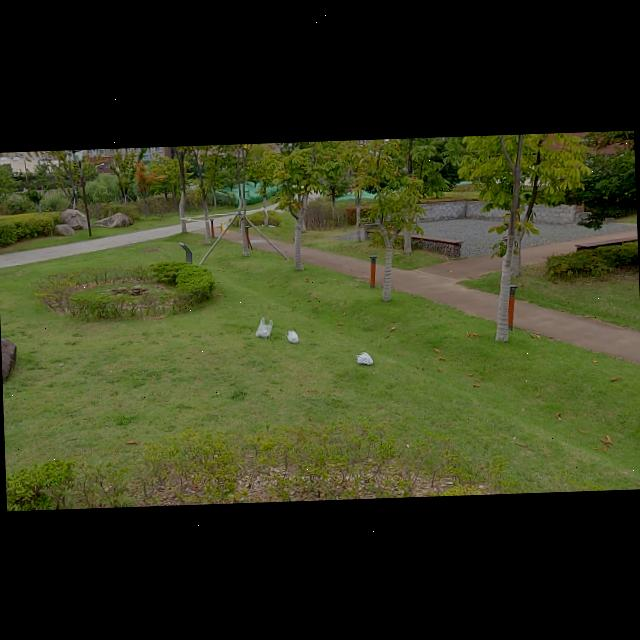trash: (253, 315, 274, 337), (354, 349, 377, 366), (284, 327, 301, 345)
